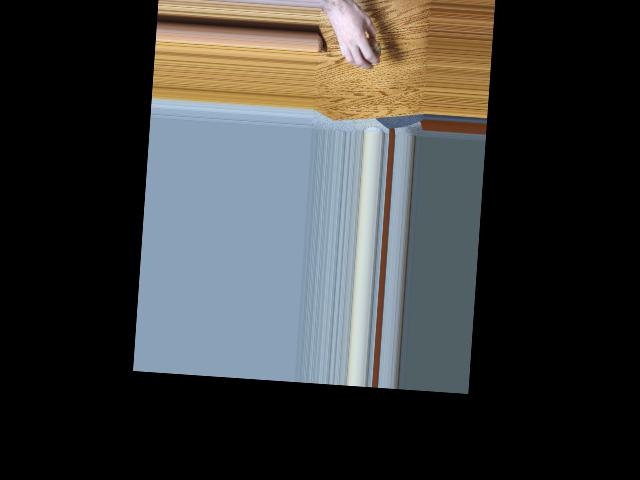onion: (355, 34, 382, 67)
